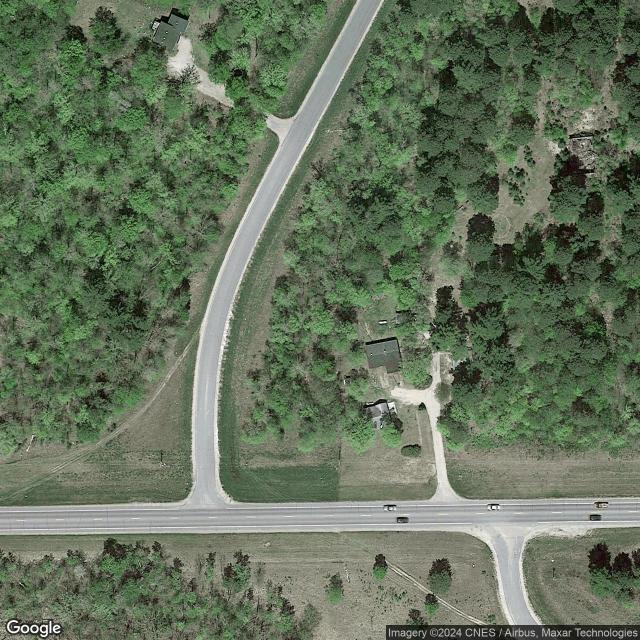Propane: (377, 320, 388, 325)
